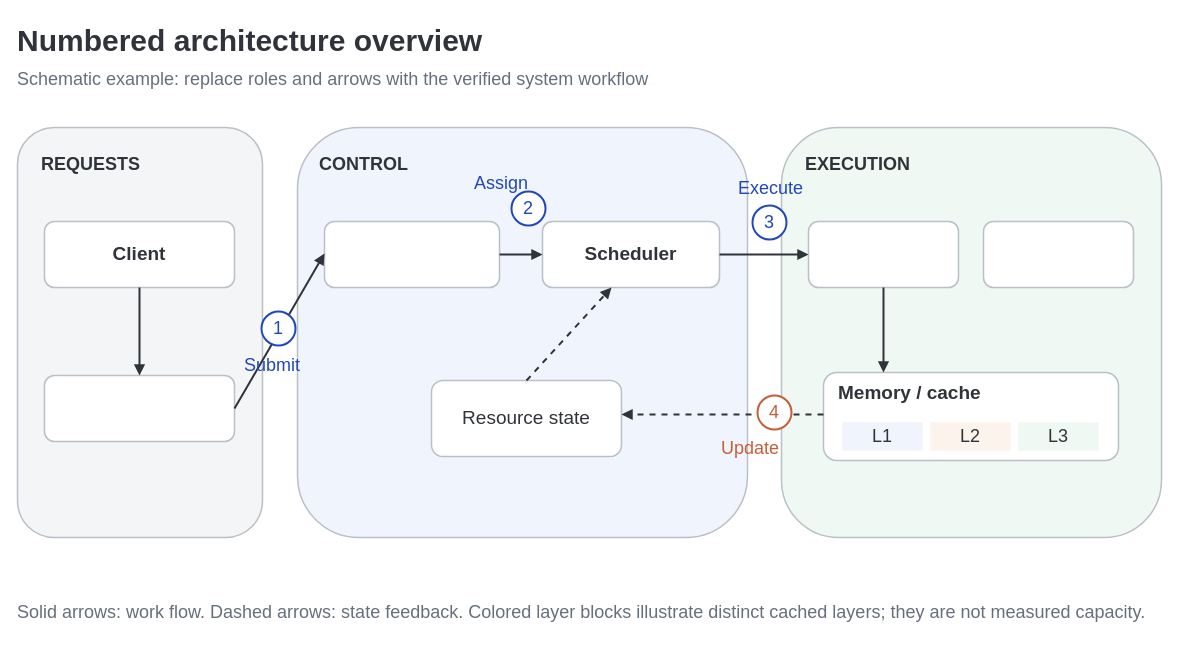
The diagram is 1180 pixels wide and 665 high, and some of its shapes have lost their labels. The centre of each missing label's shape, as x and y in pixels:
"Admission" belongs at pixel 411 254.
"Request queue" belongs at pixel 139 408.
"Worker A" belongs at pixel 883 254.
"Worker B" belongs at pixel 1058 254.
